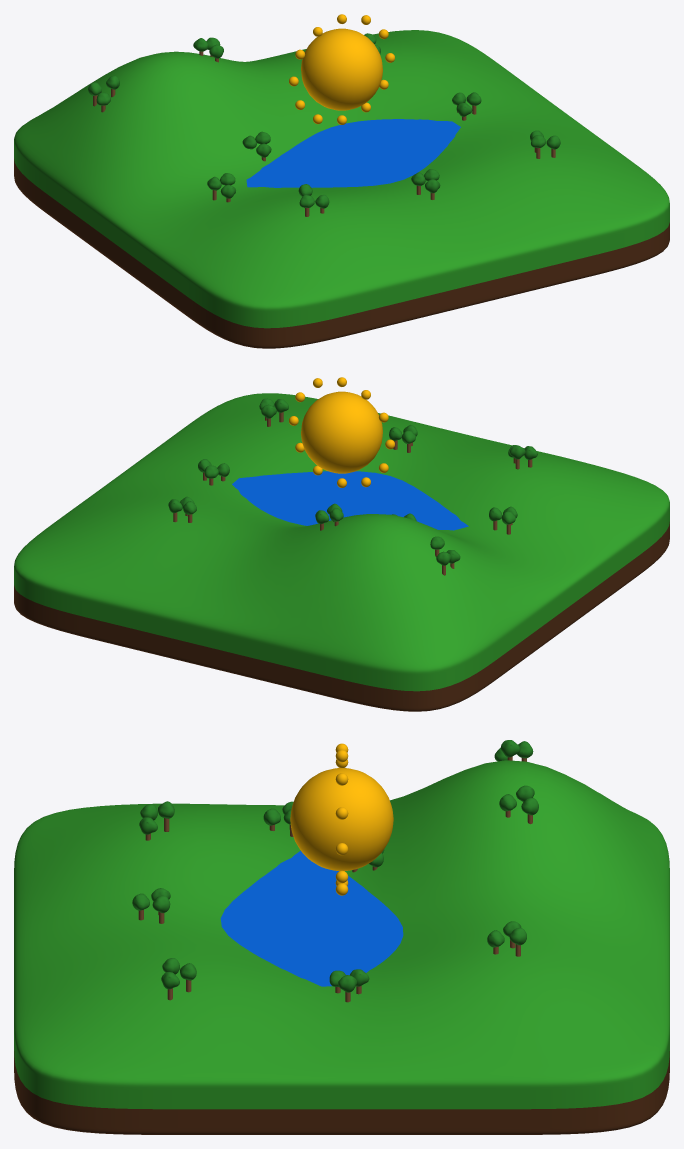
Rendered from sun copy 2.glb.
3 views of the same model, one above another, from view 1: azimuth 30°, elevation 25°; view 2: azimuth 150°, elevation 25°; view 3: azimuth 270°, elevation 25° (orthographic). The views are drawn at different scales.
Visible parts, largest first — view 1: Plane, Plane.001, sun, matahari2; view 2: Plane, Plane.001, sun, matahari2; view 3: Plane, Plane.001, sun, matahari2.
Boxes of the visible parts, x1,y1,x2,y2 form: Plane: (14,30,669,348); Plane.001: (246,119,460,187); sun: (301,28,382,110); matahari2: (289,14,394,124); Plane: (14,393,669,711); Plane.001: (232,471,468,530); sun: (301,391,382,473); matahari2: (289,377,394,487); Plane: (14,760,669,1134); Plane.001: (220,850,403,986); sun: (290,768,393,871); matahari2: (335,743,348,895).
Bounding box in the file's own units: 12.68 × 7.05 × 12.68.
